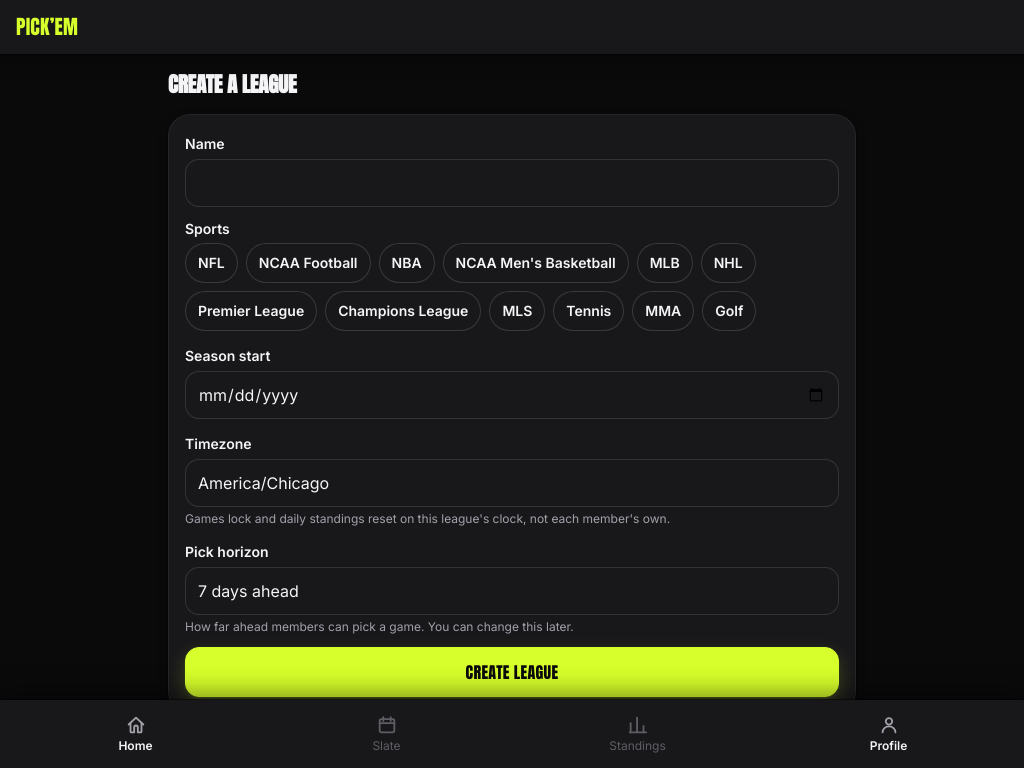
CreateLeagueScreen › blocks submission locally when nothing is filled in
Step 1. Click the button "Create league" → [512, 672], box [185,647,839,697]
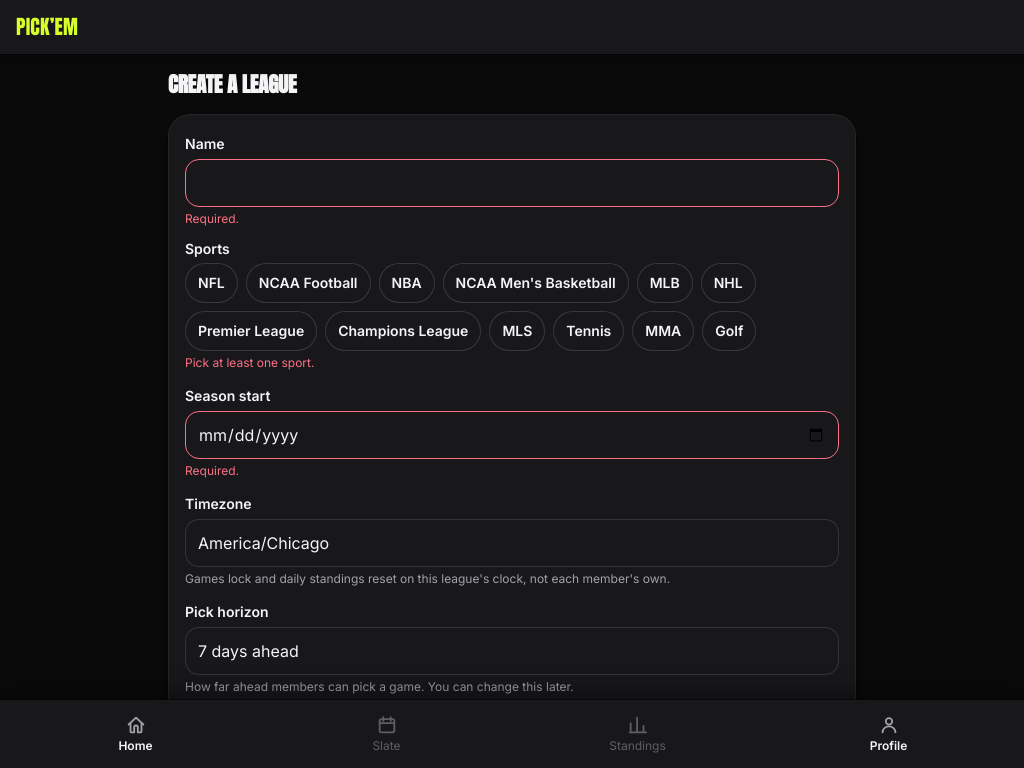
Check: the text "Pick at least one sport." is shown, box [185,355,314,370]
